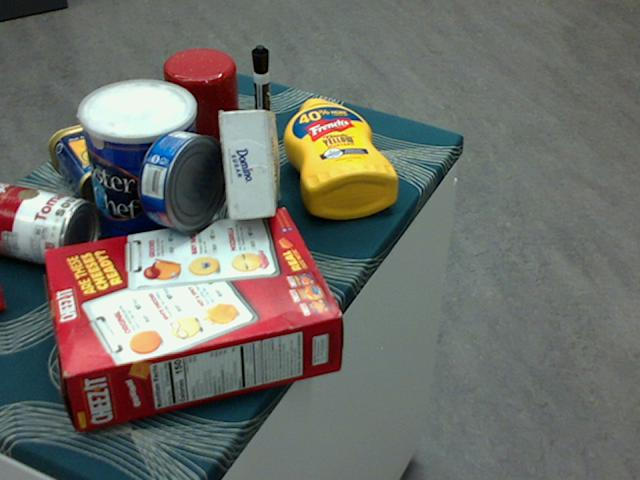cracker_box: (46, 207, 341, 430)
gelatin_box: (0, 282, 8, 311)
large_marker: (251, 44, 270, 149)
master_chef_can: (78, 81, 202, 264)
mug: (162, 49, 243, 148)
mustard_bottle: (283, 97, 398, 218)
potted_meat_can: (49, 114, 171, 210)
sugar_box: (223, 109, 276, 220)
tomato_soup_can: (0, 179, 98, 270)
tuna_fish_can: (137, 129, 229, 232)
